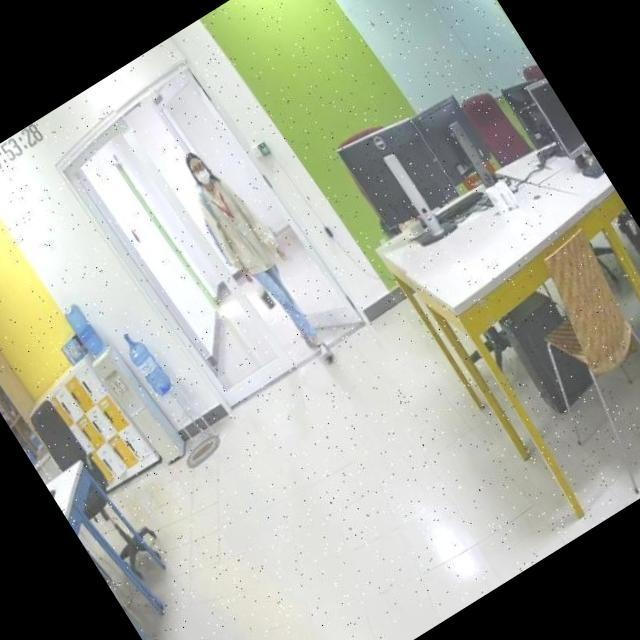person: (163, 135, 349, 380)
